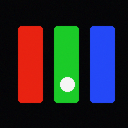2 circle: (60, 77, 74, 91)
